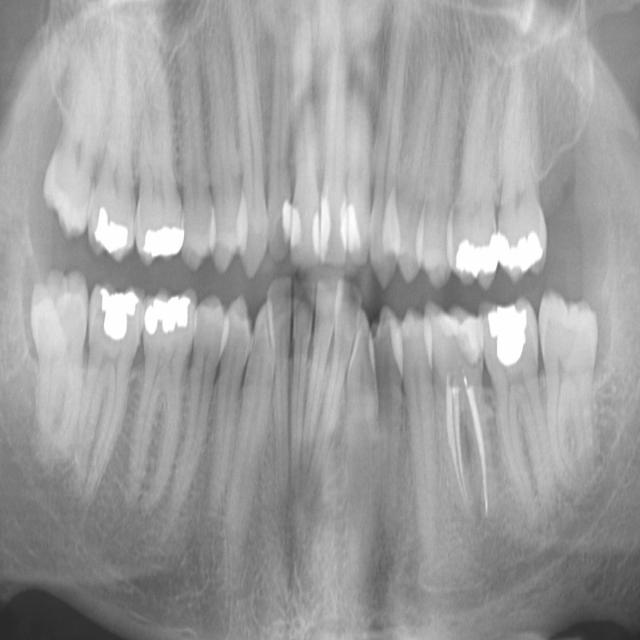infected-teeth: (423, 295, 496, 523)
